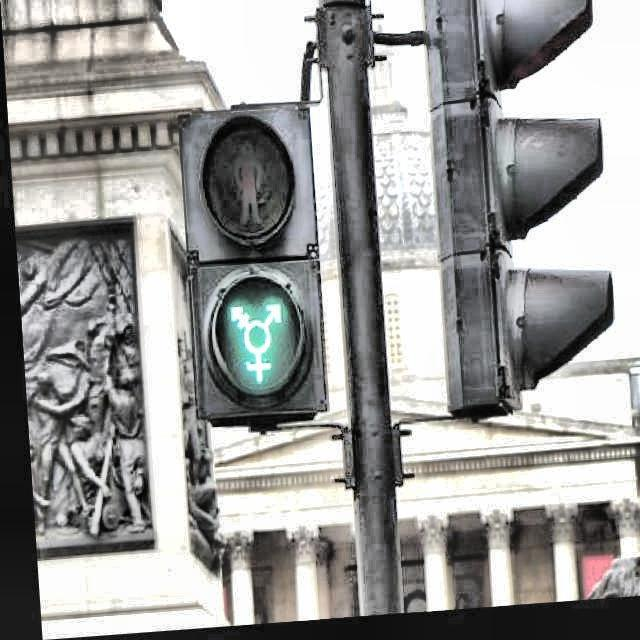semaforo pedestre: (132, 44, 358, 491)
